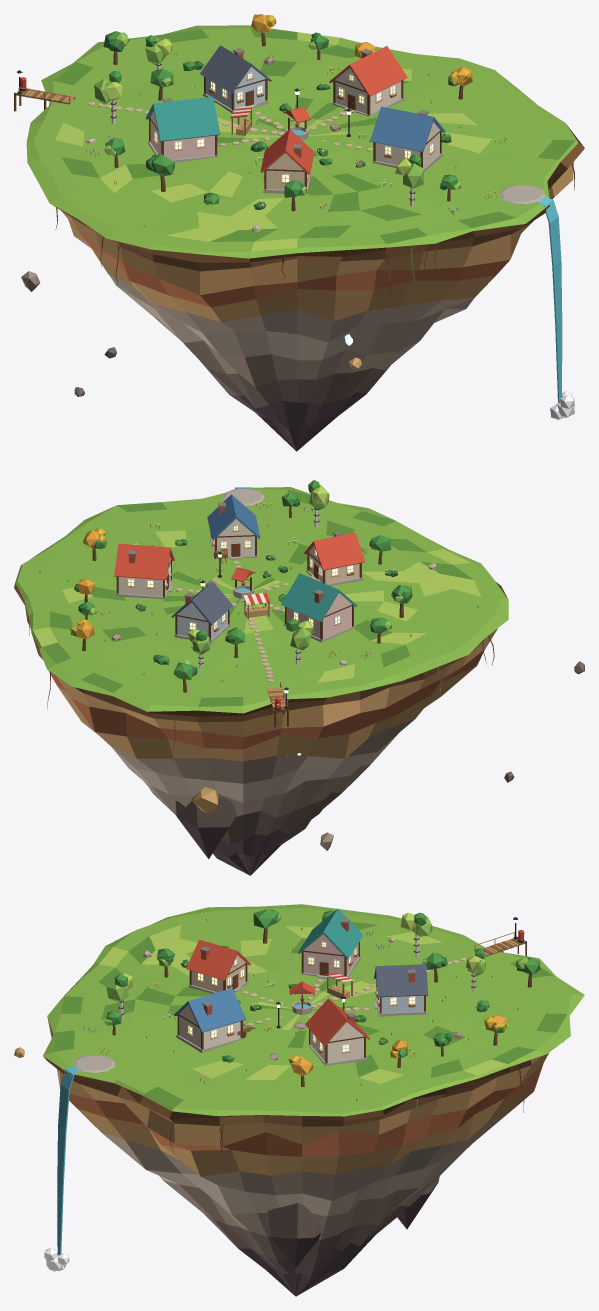
The model's file is island_village.glb.
3 views of the same model, one above another, from view 1: azimuth 30°, elevation 25°; view 2: azimuth 150°, elevation 25°; view 3: azimuth 270°, elevation 25° (orthographic). The views are drawn at different scales.
Parts seen in each view (by area): view 1: Island-col, Dressing, Waterfall, WaterfallPond, Debris; view 2: Island-col, Dressing, Debris; view 3: Island-col, Dressing, Waterfall, WaterfallPond.
Boxes of the visible parts, x1,y1,x2,y2 form: Island-col: (26, 25, 584, 451); Dressing: (14, 14, 506, 231); Waterfall: (537, 196, 562, 403); WaterfallPond: (499, 184, 545, 204); Debris: (21, 271, 361, 396); Island-col: (14, 487, 508, 875); Dressing: (38, 480, 479, 727); Debris: (192, 661, 584, 850); Island-col: (43, 904, 584, 1296); Dressing: (83, 908, 540, 1101); Waterfall: (57, 1066, 79, 1255); WaterfallPond: (73, 1054, 114, 1073).
Size of what is drawn, in the model's own units: 79.16 by 53.97 by 83.63.
